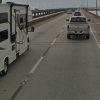Car: (57, 8, 95, 50)
